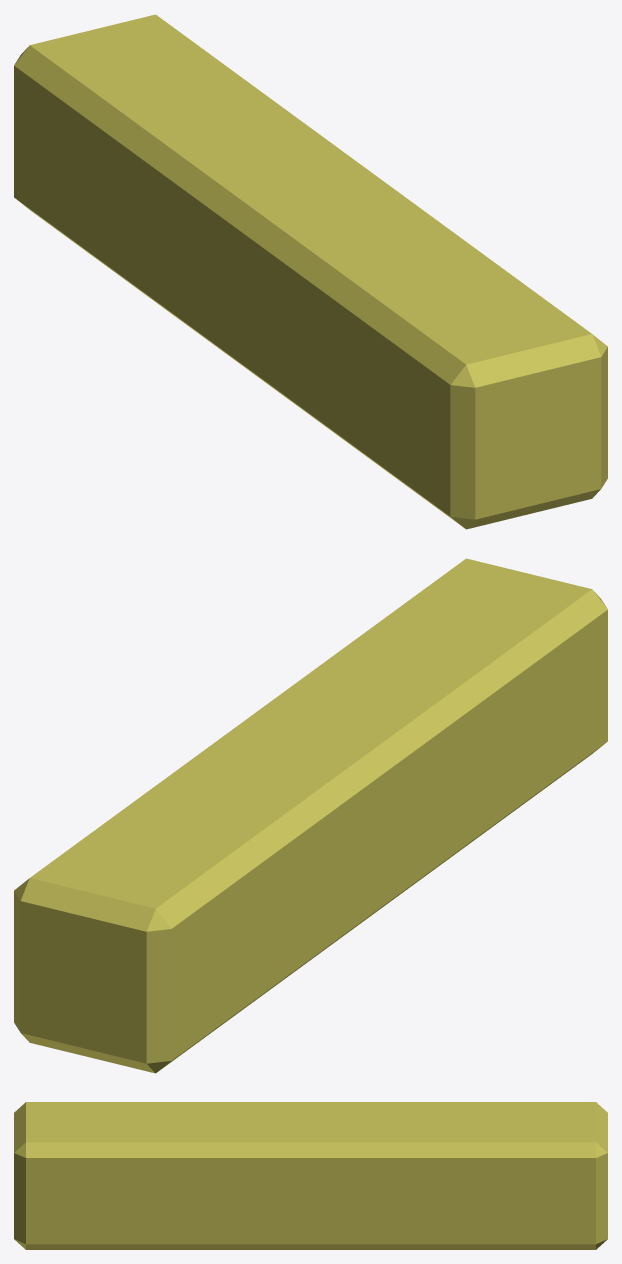
File: Pong_Bar2.fbx
3 views of the same model, one above another, from view 1: azimuth 30°, elevation 25°; view 2: azimuth 150°, elevation 25°; view 3: azimuth 270°, elevation 25° (orthographic). The views are drawn at different scales.
Parts seen in each view (by area): view 1: Bar_2; view 2: Bar_2; view 3: Bar_2.
Boxes of the visible parts, x1,y1,x2,y2 form: Bar_2: (14, 14, 607, 529); Bar_2: (14, 558, 607, 1073); Bar_2: (14, 1102, 607, 1249).
Bounding box in the file's own units: 0.04 × 0.04 × 0.2.
